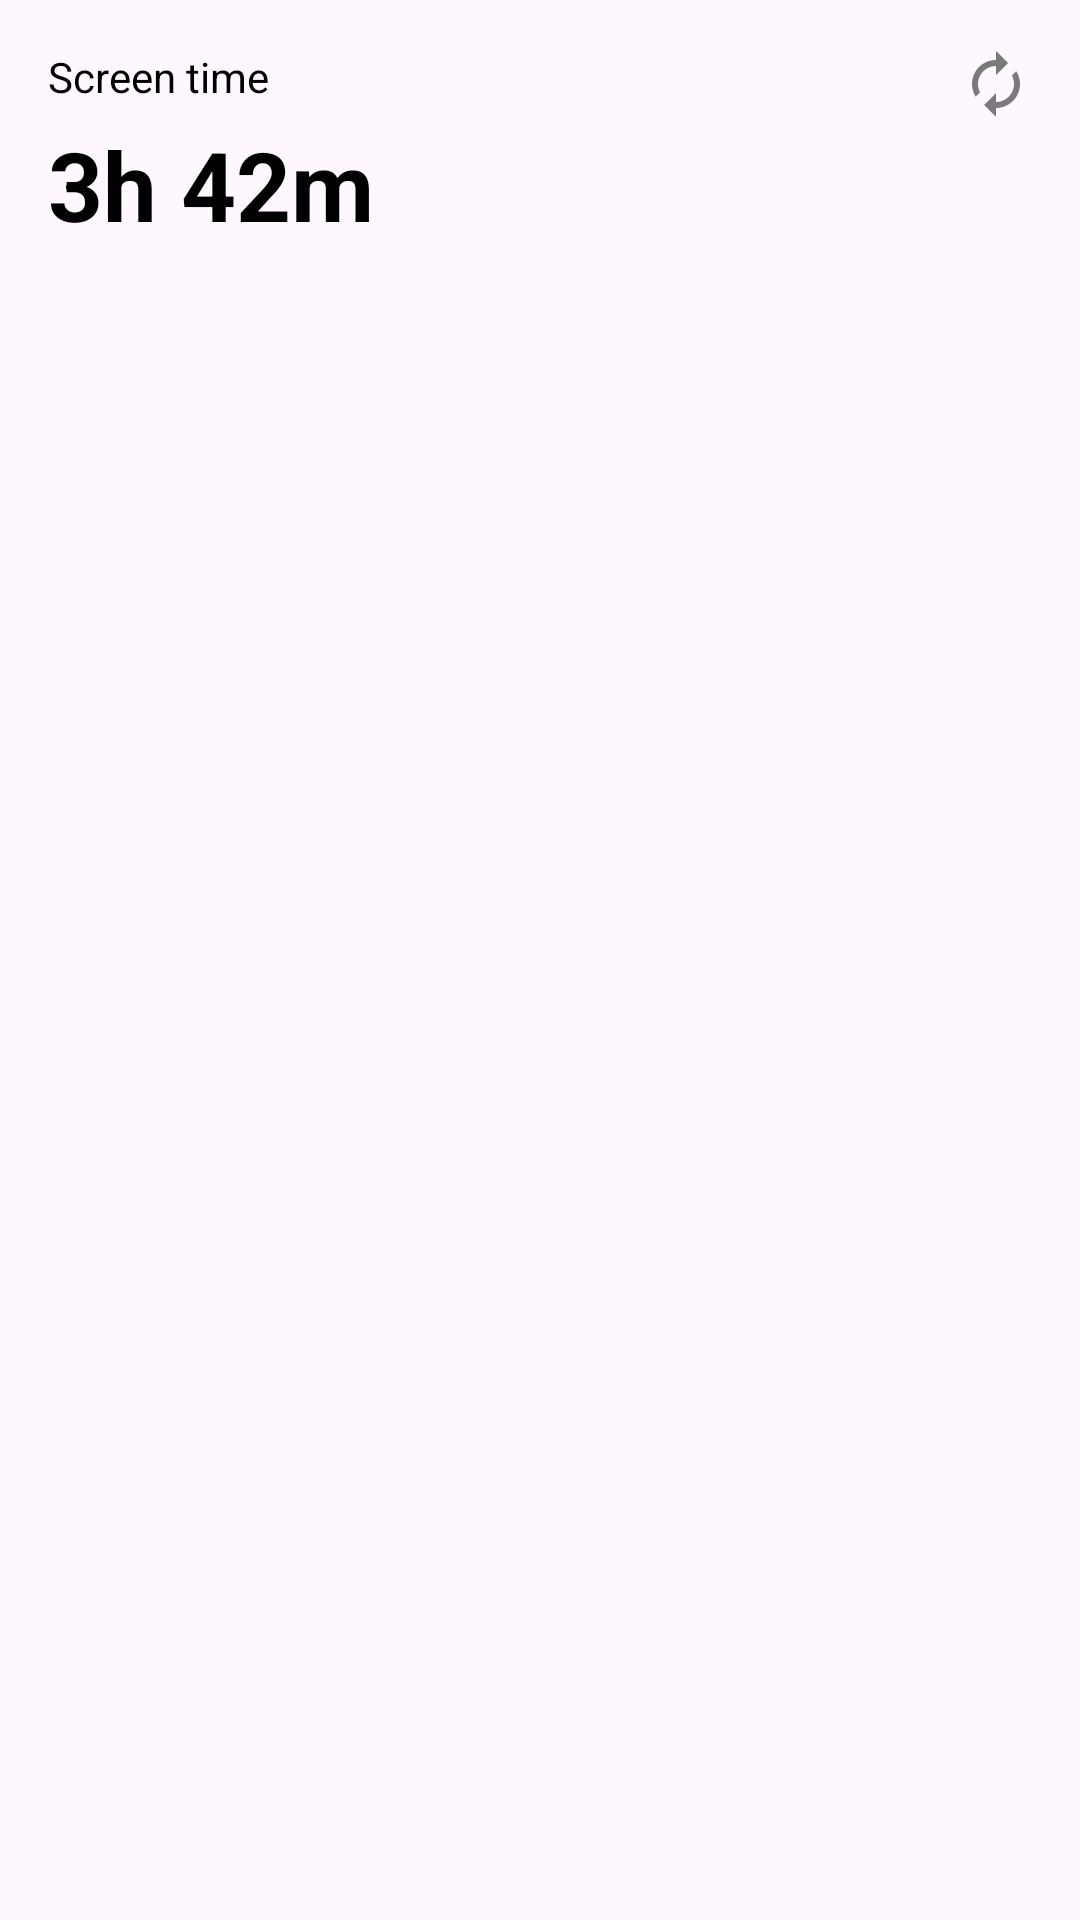

Where to tap for icons on this 1080 x 1920 app screen, as point (x, y):
autorenew: point (996, 84)
